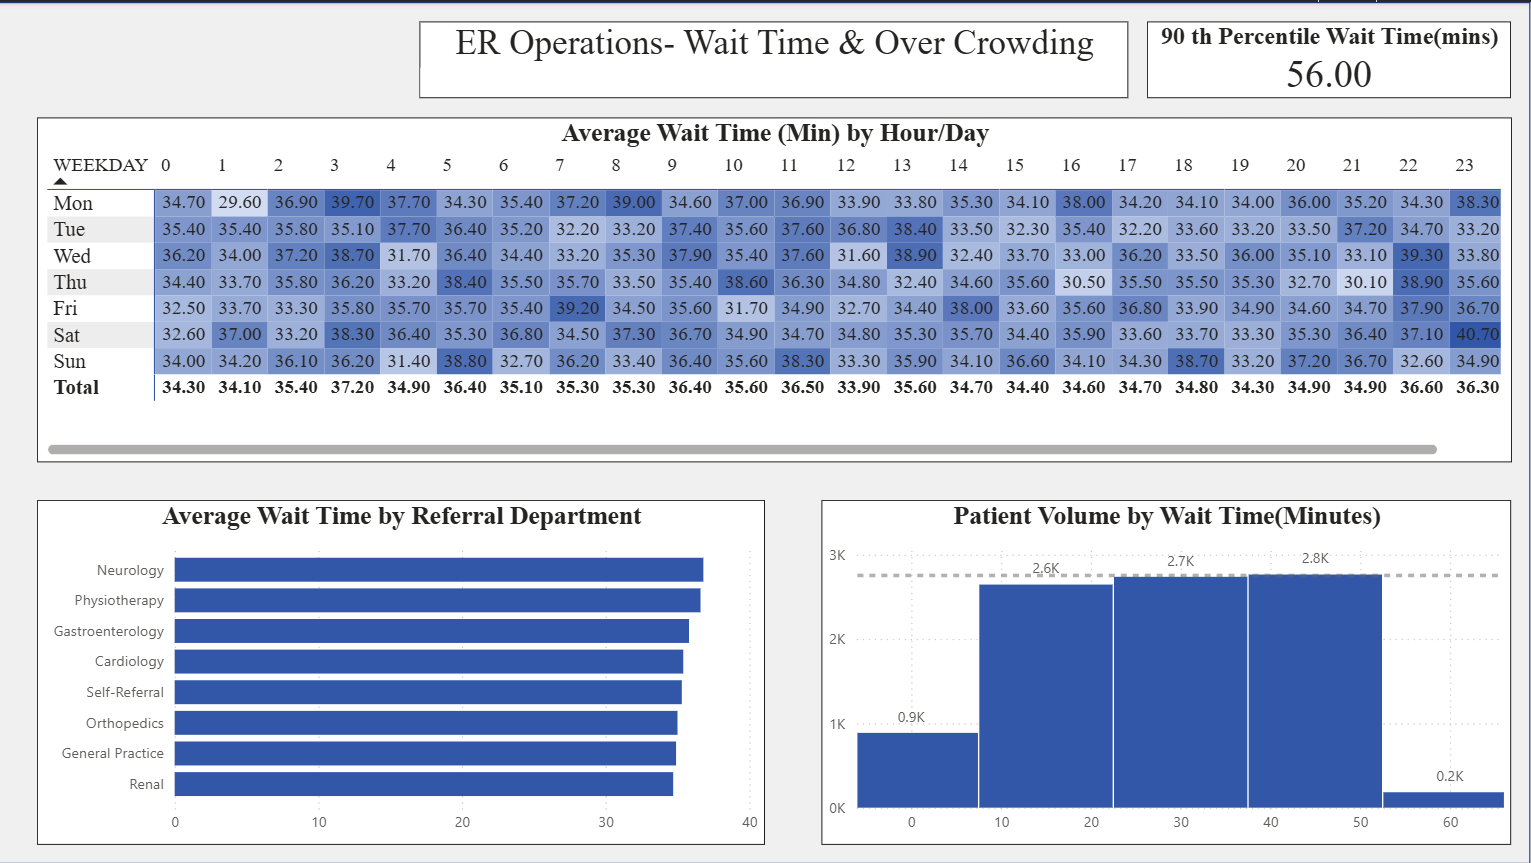

The page's visual inventory and layout, read from the dashboard file:
{"tool":"powerbi","page":{"name":"Wait Time & Overcrowding","canvas":[1280,720],"ordinal":1},"visuals":[{"type":"shape","box":[0,0,1280,720],"z":0},{"type":"shape","title":"ER Operations- Wait Time & Over Crowding","box":[352,16,592,64],"z":1000},{"type":"pivotTable","title":"Average Wait Time (Min) by Hour/Day","fields":{"Rows":["Date_Table.WEEKDAY"],"Columns":["er ER_Visits.HOUR_OF_ARRIVAL"],"Values":["er ER_Visits.AVERAGE WAIT TIME"]},"box":[32,96,1232,288],"z":2000},{"type":"clusteredBarChart","title":"Average Wait Time by Referral Department","fields":{"Category":["er ER_Visits.DEPARTMENT_REFERRAL"],"Y":["er ER_Visits.AVERAGE WAIT TIME"]},"box":[32,416,608,288],"z":3000},{"type":"clusteredColumnChart","title":"Patient Volume by Wait Time(Minutes)","fields":{"Category":["er ER_Visits.PATIENT_WAITTIME (bins)"],"Y":["CountNonNull(er ER_Visits.PATIENT_ID)"]},"box":[688,416,576,288],"z":4000},{"type":"card","title":"90 th Percentile Wait Time(mins)","fields":{"Values":["er ER_Visits.90 th Percentile Wait Time"]},"box":[960,16,304,64],"z":7000}]}

Visuals, with their boxes in screenshot pixels (x1, y1, x2, y2), scaled from the page's 1280x720 canvas onto the 1531x863 screenshot:
shape: bbox=(0, 0, 1530, 862)
"ER Operations- Wait Time & Over Crowding" shape: bbox=(421, 19, 1129, 96)
"Average Wait Time (Min) by Hour/Day" pivotTable: bbox=(38, 115, 1512, 460)
"Average Wait Time by Referral Department" clusteredBarChart: bbox=(38, 499, 766, 844)
"Patient Volume by Wait Time(Minutes)" clusteredColumnChart: bbox=(823, 499, 1512, 844)
"90 th Percentile Wait Time(mins)" card: bbox=(1148, 19, 1512, 96)
